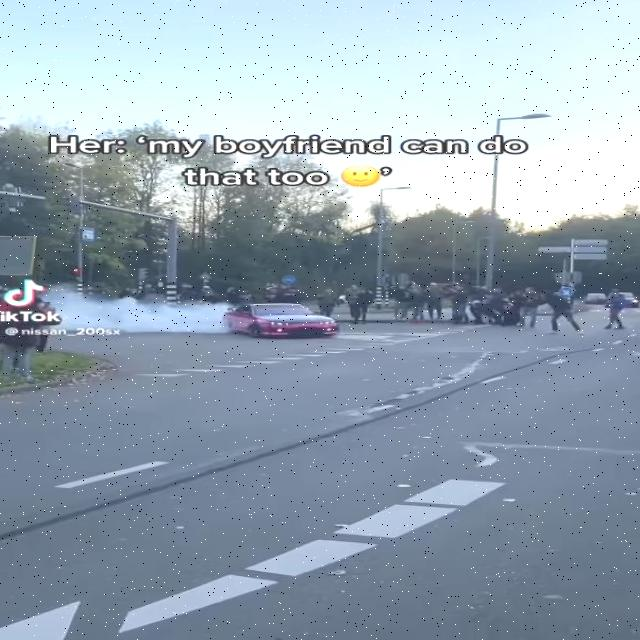car: (225, 300, 342, 340)
